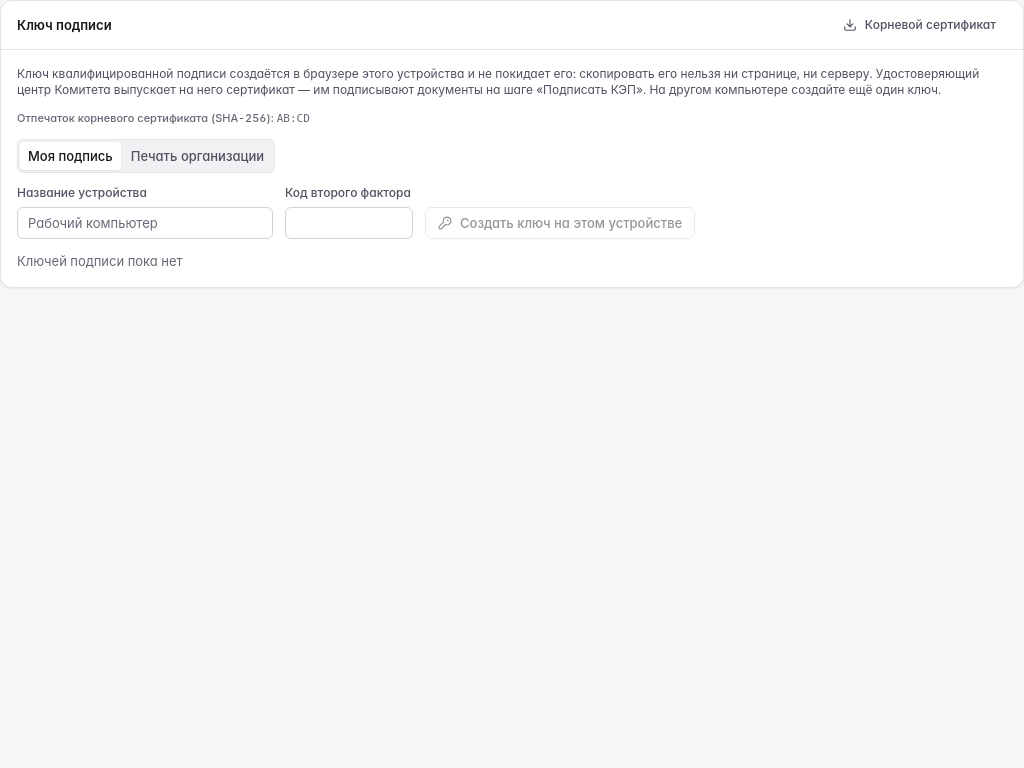
it: SigningKeyCard › ключ создаётся с кодом; печать — только у кого есть право
Expected: the button "Создать ключ на этом устройстве" is disabled, [425, 207, 695, 239]
Click the radio button labelled "Печать организации" at [198, 156], box [123, 142, 272, 170]
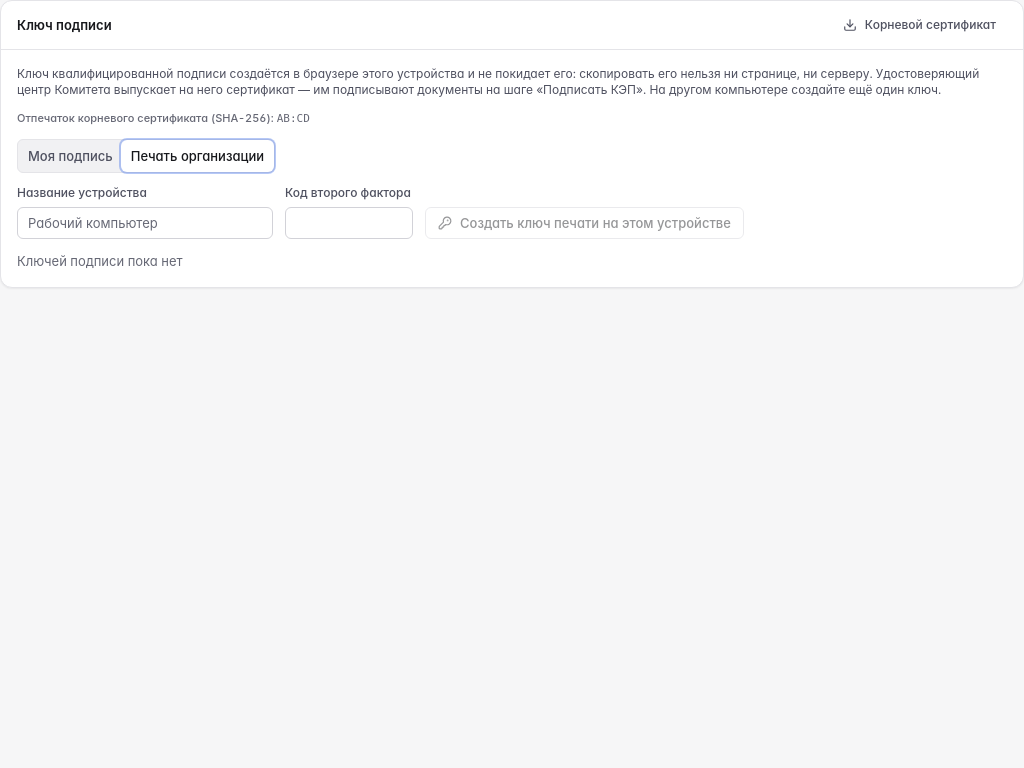
Type "Ноутбук отдела" into the field labelled "Название устройства" at [145, 223], box [17, 207, 273, 239]
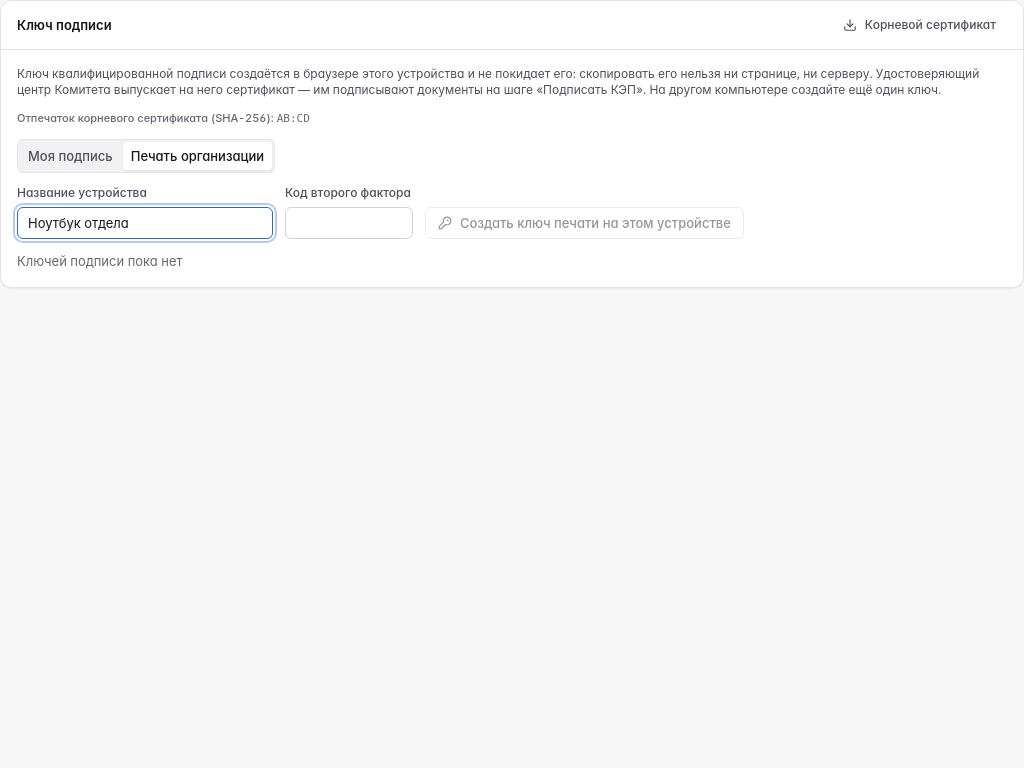
Type "123456" into the field labelled "Код второго фактора" at [349, 223], box [285, 207, 413, 239]
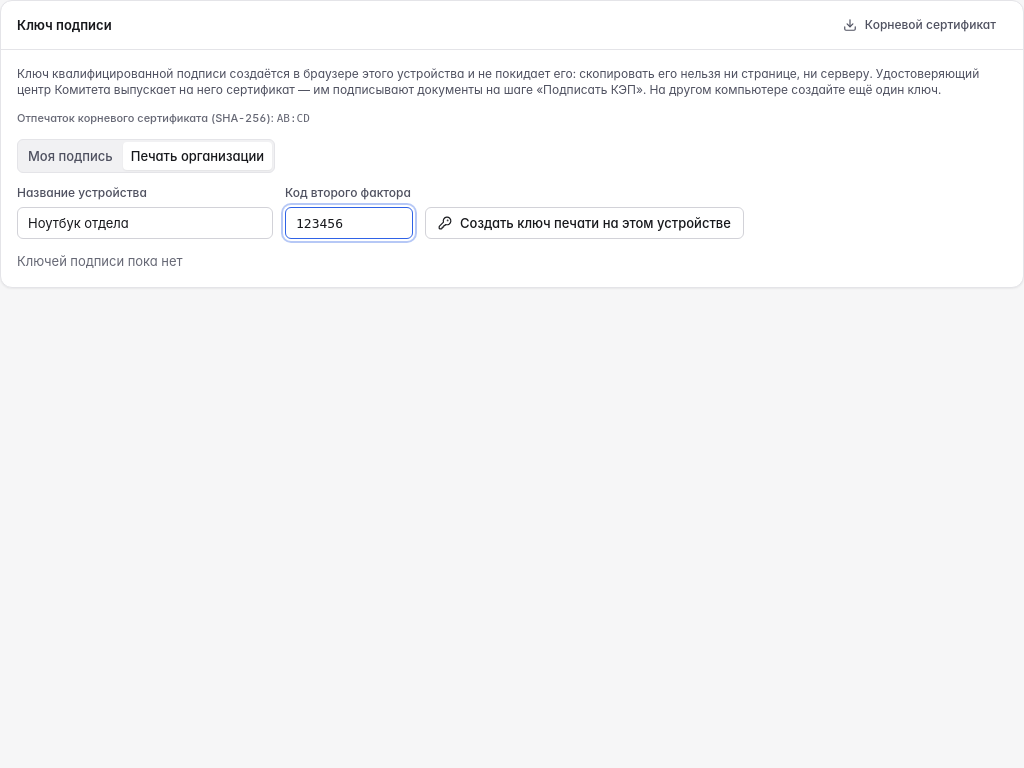
Click the button "Создать ключ печати на этом устройстве" at [584, 223], box [425, 207, 744, 239]
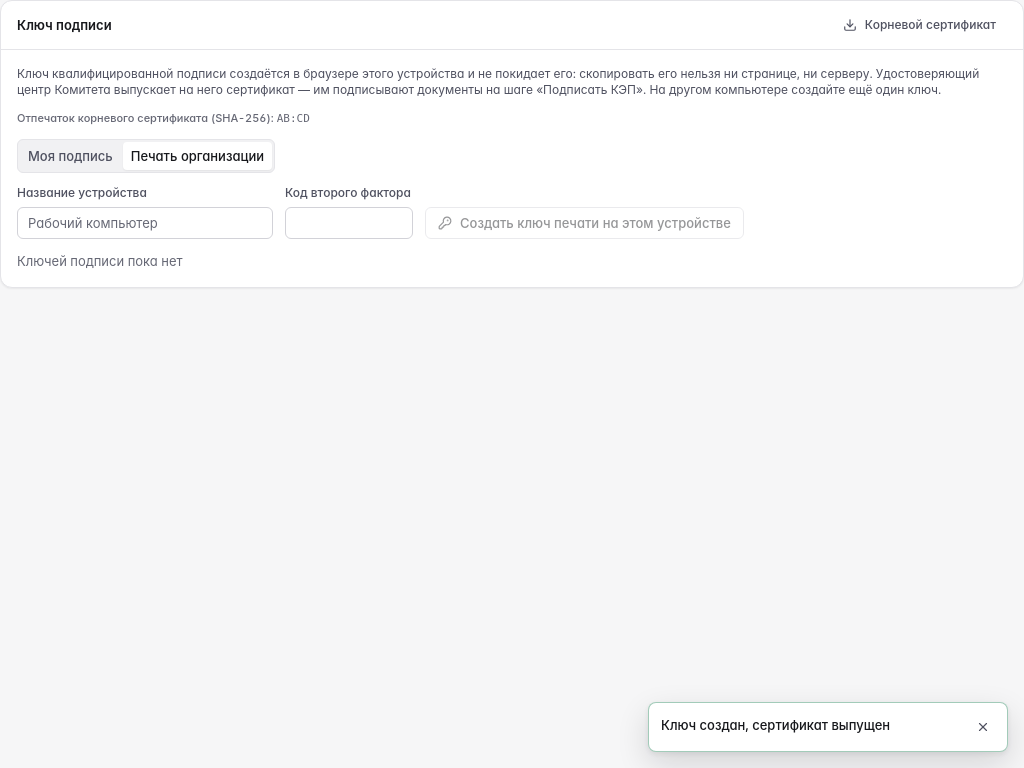
Now the text "Ключ создан, сертификат выпущен" is shown, box [661, 717, 890, 733]
